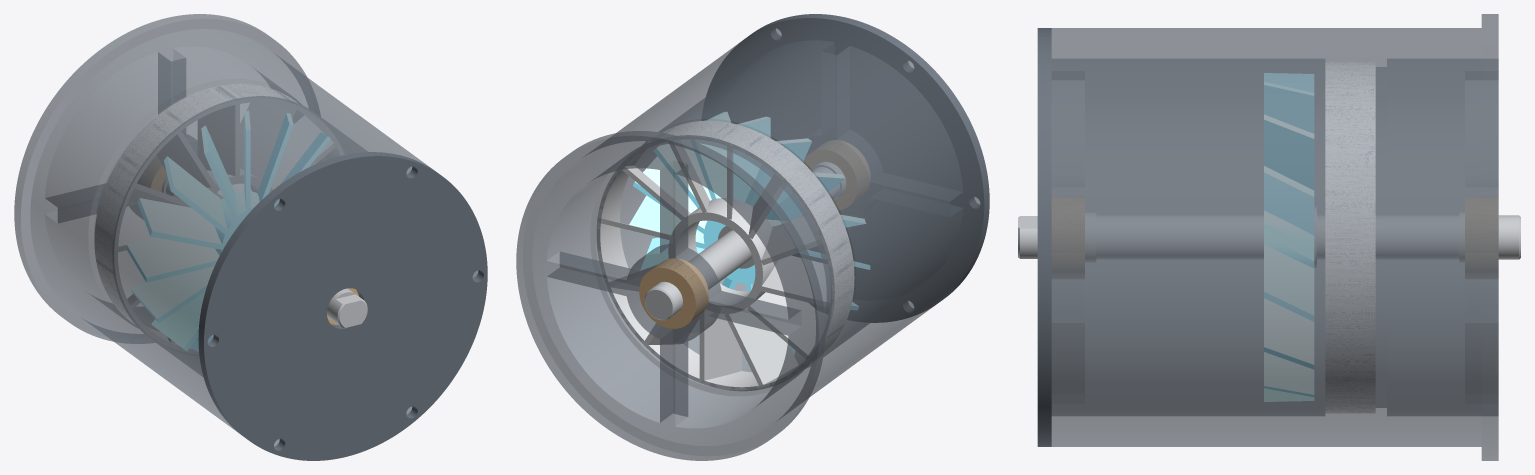
Rendered from turbine-module-v001.glb.
3 views of the same model, side by side, from view 1: azimuth 30°, elevation 25°; view 2: azimuth 150°, elevation 25°; view 3: azimuth 270°, elevation 25° (orthographic). The views are drawn at different scales.
Visible parts, largest first — view 1: NAUO1, NAUO7, NAUO4, NAUO3, NAUO2, NAUO5; view 2: NAUO1, NAUO7, NAUO4, NAUO3, NAUO2, NAUO5, NAUO6; view 3: NAUO1, NAUO4, NAUO3, NAUO2, NAUO7, NAUO5, NAUO6.
Part boxes in pixels (<box>): NAUO1: <box>14,14,478,446</box>; NAUO7: <box>198,152,487,460</box>; NAUO4: <box>94,83,344,353</box>; NAUO3: <box>127,111,330,351</box>; NAUO2: <box>162,176,367,327</box>; NAUO5: <box>138,156,166,191</box>; NAUO1: <box>516,18,984,460</box>; NAUO7: <box>702,14,989,322</box>; NAUO4: <box>596,120,854,391</box>; NAUO3: <box>629,112,869,363</box>; NAUO2: <box>644,162,845,320</box>; NAUO5: <box>639,258,708,328</box>; NAUO6: <box>803,140,869,209</box>; NAUO1: <box>1051,14,1498,460</box>; NAUO4: <box>1325,61,1375,413</box>; NAUO3: <box>1264,73,1313,401</box>; NAUO2: <box>1018,207,1520,267</box>; NAUO7: <box>1037,28,1051,446</box>; NAUO5: <box>1465,196,1497,272</box>; NAUO6: <box>1052,196,1084,272</box>.
Size of the model in its own units: 0.16 by 0.16 by 0.18.
